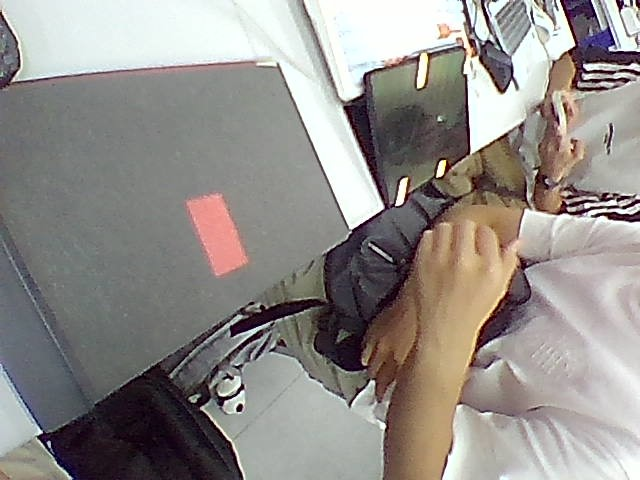card: (187, 193, 248, 276)
